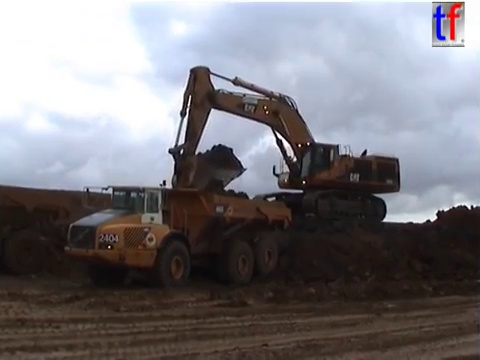excavator: (165, 63, 405, 226)
truck: (61, 178, 296, 291), (1, 179, 162, 281)
